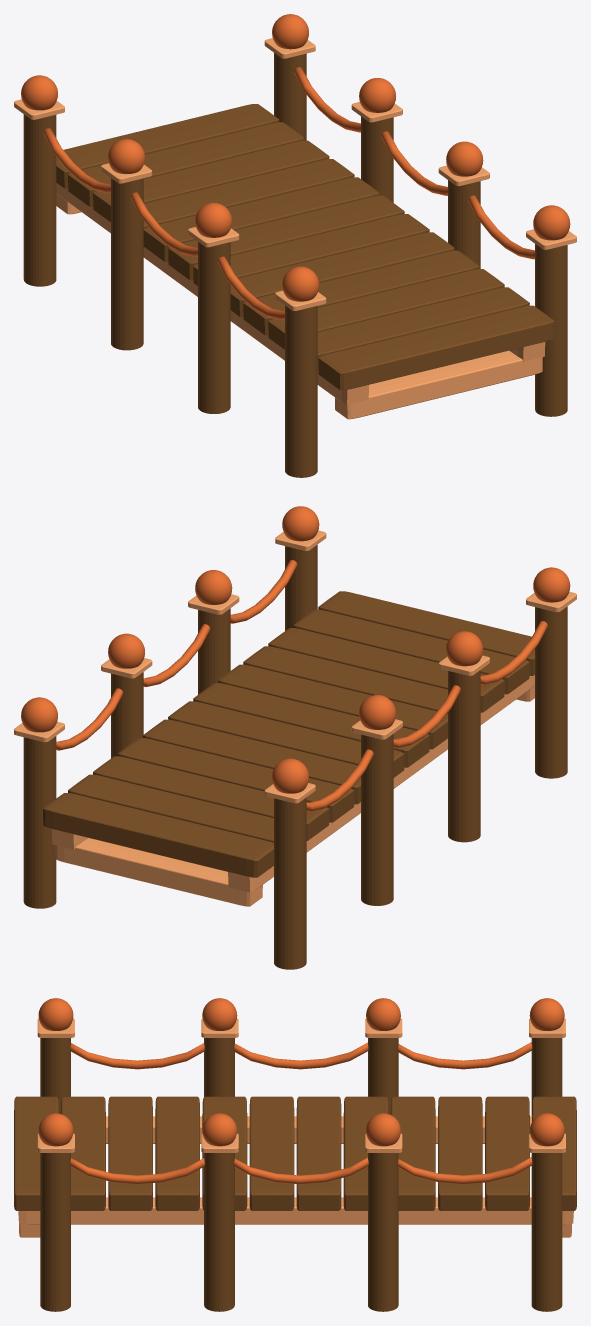
Rendered from jetty.glb.
3 renders of one model, top to bottom at view 1: azimuth 30°, elevation 25°; view 2: azimuth 150°, elevation 25°; view 3: azimuth 270°, elevation 25°, orthographic. The views are drawn at different scales.
Parts seen in each view (by area): view 1: Jetty; view 2: Jetty; view 3: Jetty.
Part boxes in pixels (x1,y1,x2,y2): Jetty: (14, 14, 576, 477); Jetty: (14, 506, 576, 969); Jetty: (14, 998, 576, 1311).
Size of the model in its own units: 3.45 by 2.35 by 6.28.
